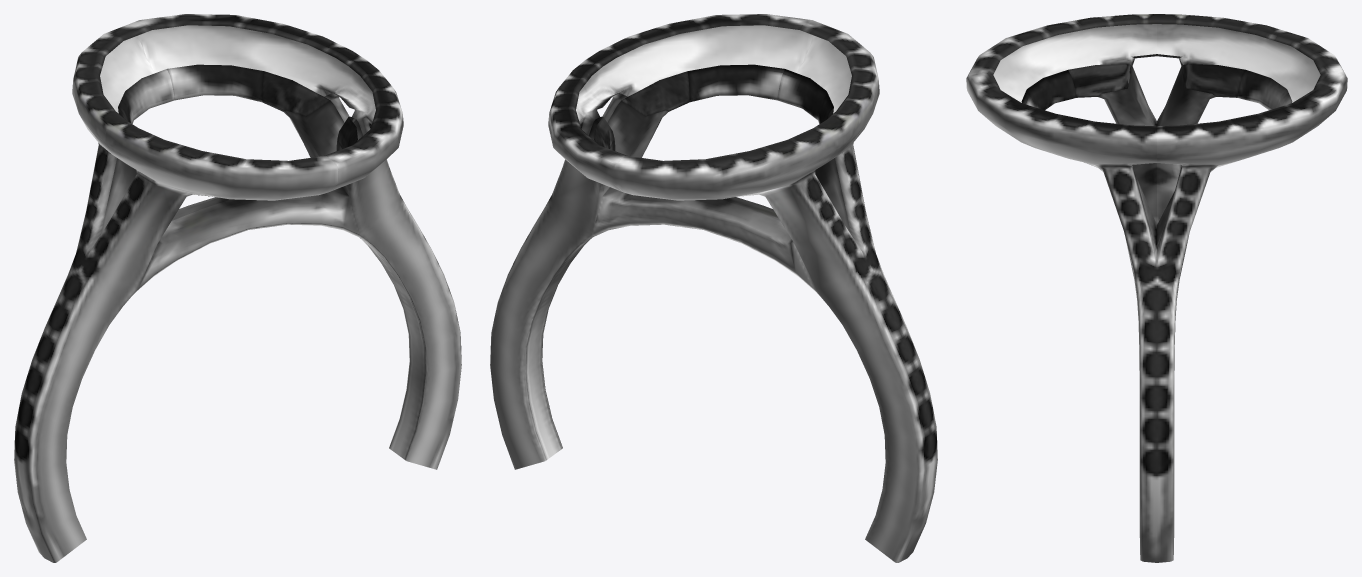
The model's file is blueRing_base_0208.obj.
The picture shows the model from 3 angles, left to right: view 1: azimuth 30°, elevation 25°; view 2: azimuth 150°, elevation 25°; view 3: azimuth 270°, elevation 25°; orthographic projection. The views are drawn at different scales.
Visible parts, largest first — view 1: blueRing_base:blueRing_combined1 blueRing_base:group2 blueRing_b; view 2: blueRing_base:blueRing_combined1 blueRing_base:group2 blueRing_b; view 3: blueRing_base:blueRing_combined1 blueRing_base:group2 blueRing_b.
Part boxes in pixels (x1=…): blueRing_base:blueRing_combined1 blueRing_base:group2 blueRing_b: x1=14, y1=14, x2=461, y2=562; blueRing_base:blueRing_combined1 blueRing_base:group2 blueRing_b: x1=490, y1=14, x2=937, y2=562; blueRing_base:blueRing_combined1 blueRing_base:group2 blueRing_b: x1=966, y1=14, x2=1347, y2=562.
Bounding box in the file's own units: 29.14 × 26.9 × 23.2.
1 material, 1 textured.
